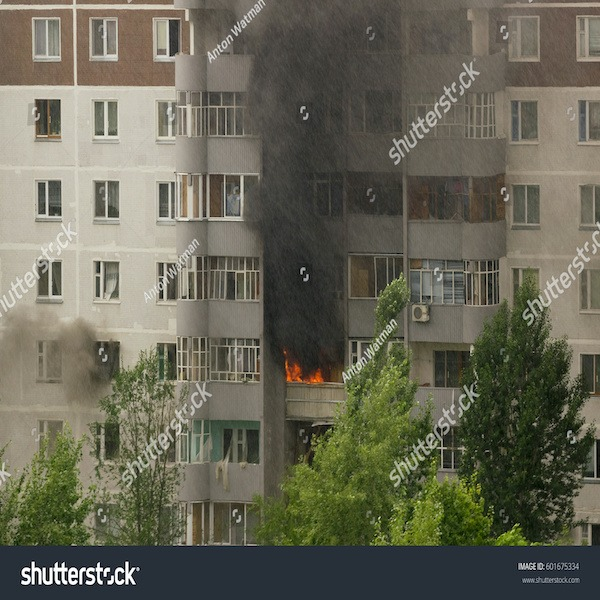fire: (284, 346, 329, 384)
